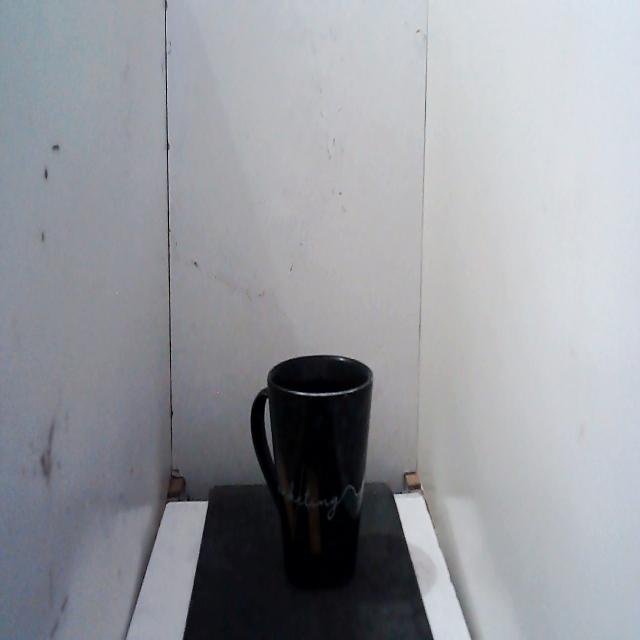vidro: (246, 342, 380, 612)
